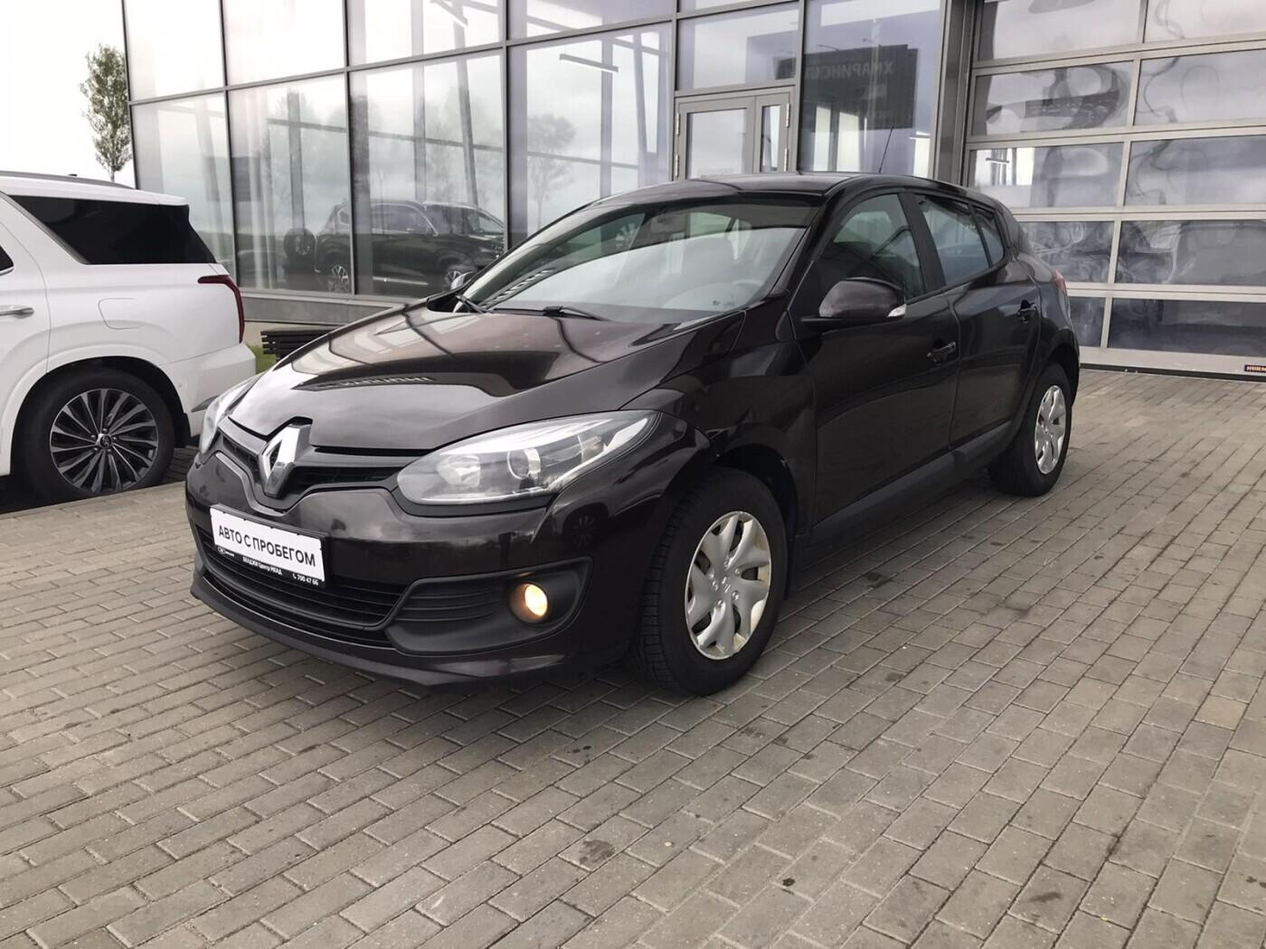Megane_2012-2014: (187, 163, 1081, 691)
